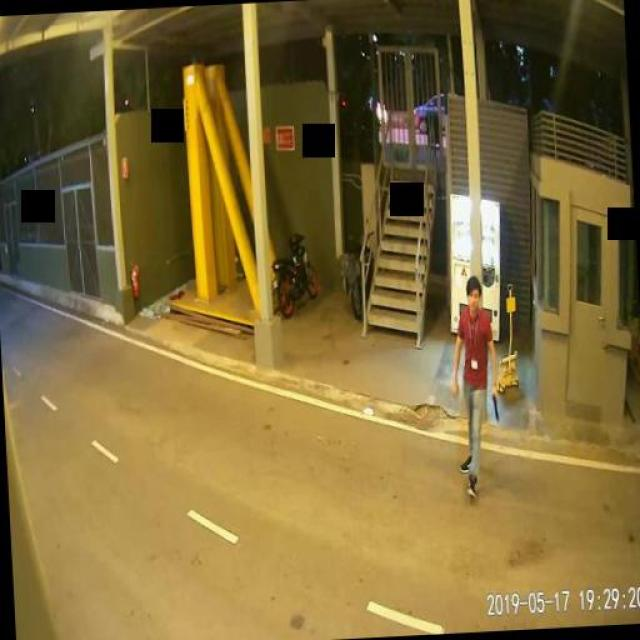gun: (490, 386, 498, 420)
